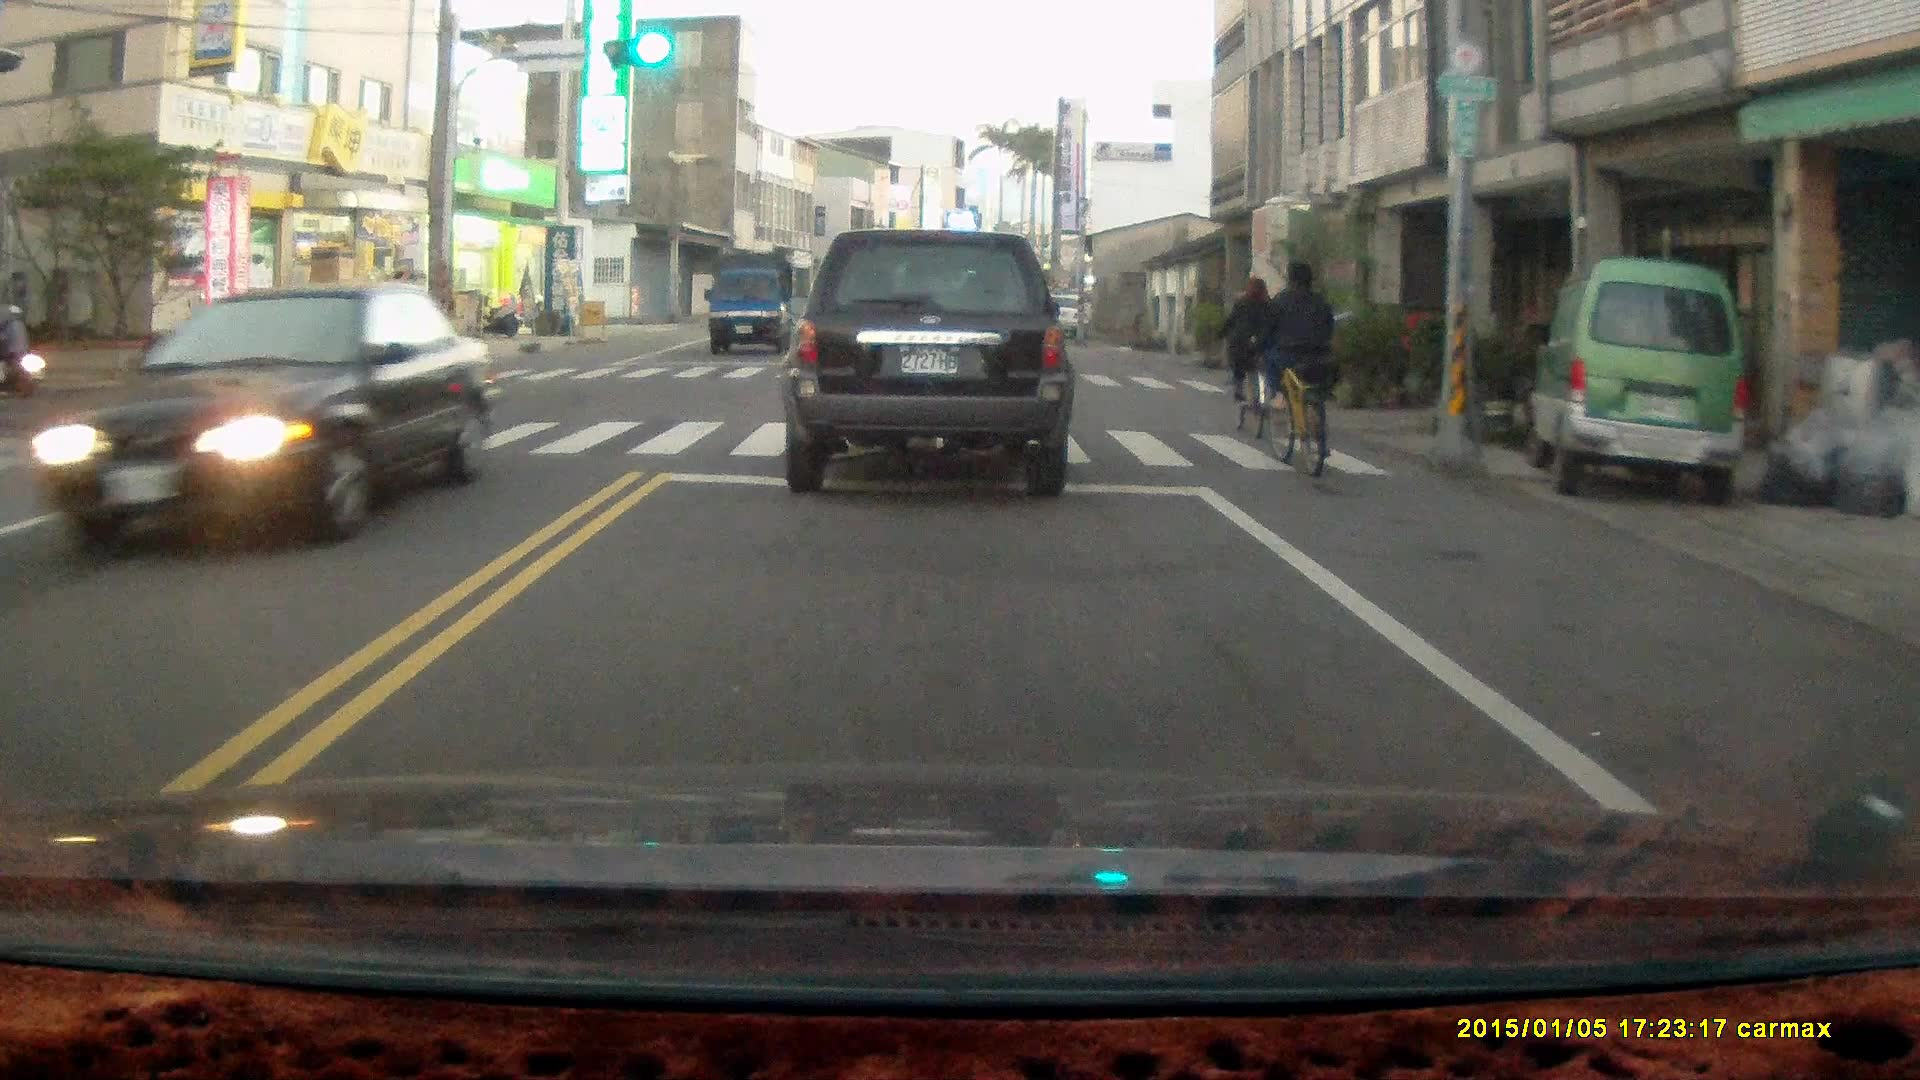rider: (1253, 256, 1340, 474), (1220, 278, 1279, 450), (0, 299, 46, 400)
vehicle: (34, 285, 494, 553), (782, 229, 1073, 500), (1532, 259, 1756, 512), (710, 253, 806, 357)
